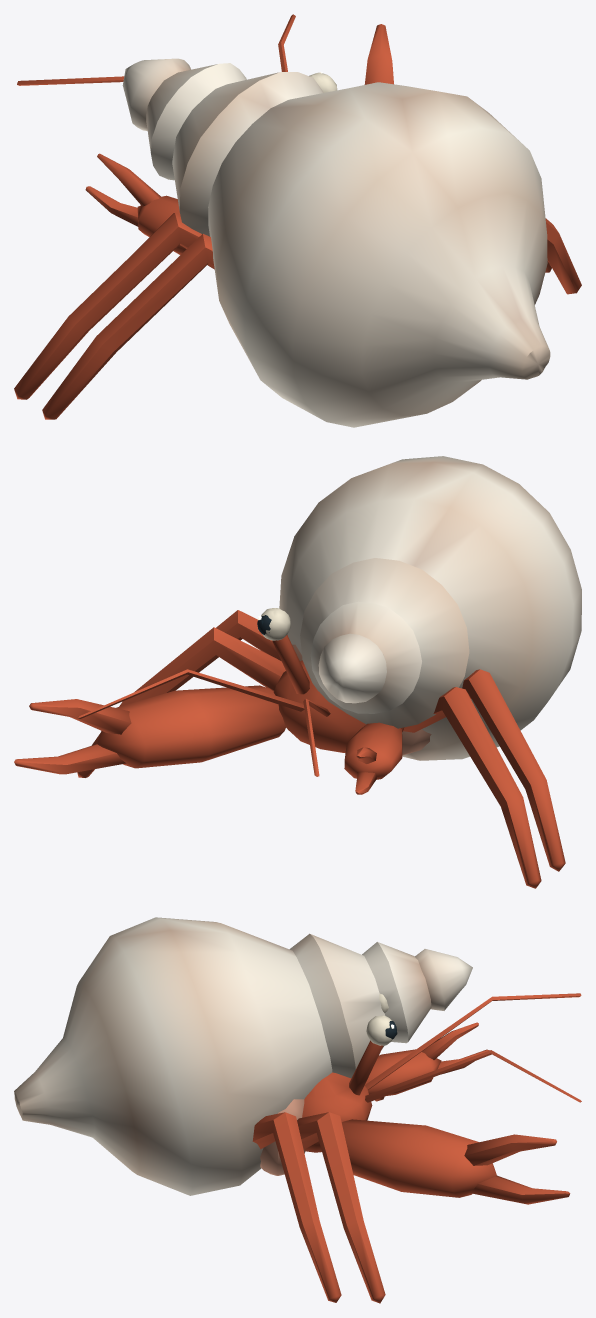
File: crab.glb
3 views of the same model, one above another, from view 1: azimuth 30°, elevation 25°; view 2: azimuth 150°, elevation 25°; view 3: azimuth 270°, elevation 25° (orthographic). The views are drawn at different scales.
Parts seen in each view (by area): view 1: crab; view 2: crab; view 3: crab.
Part boxes in pixels (x1=…): crab: x1=14, y1=14, x2=581, y2=427; crab: x1=14, y1=456, x2=581, y2=888; crab: x1=14, y1=917, x2=581, y2=1303.
Bounding box in the file's own units: 0.3893 × 0.2331 × 0.451.
